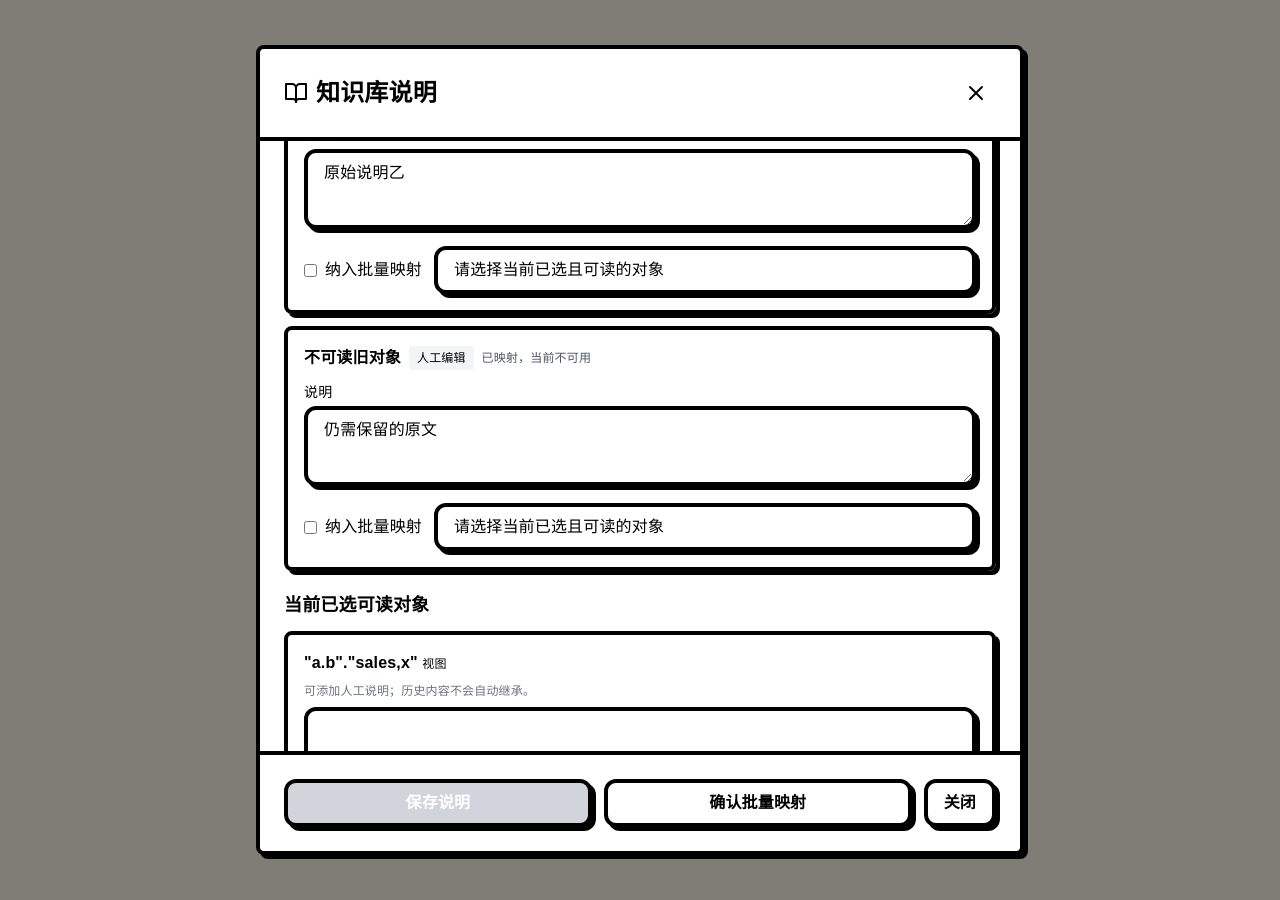
Test: unreadable mapped history can save text by history index without mapping evidence
(page scrolled)
Replace the text in the text box named "历史说明 3" with "仍保留且可编辑" at point(640, 446), box [304,406,976,486]
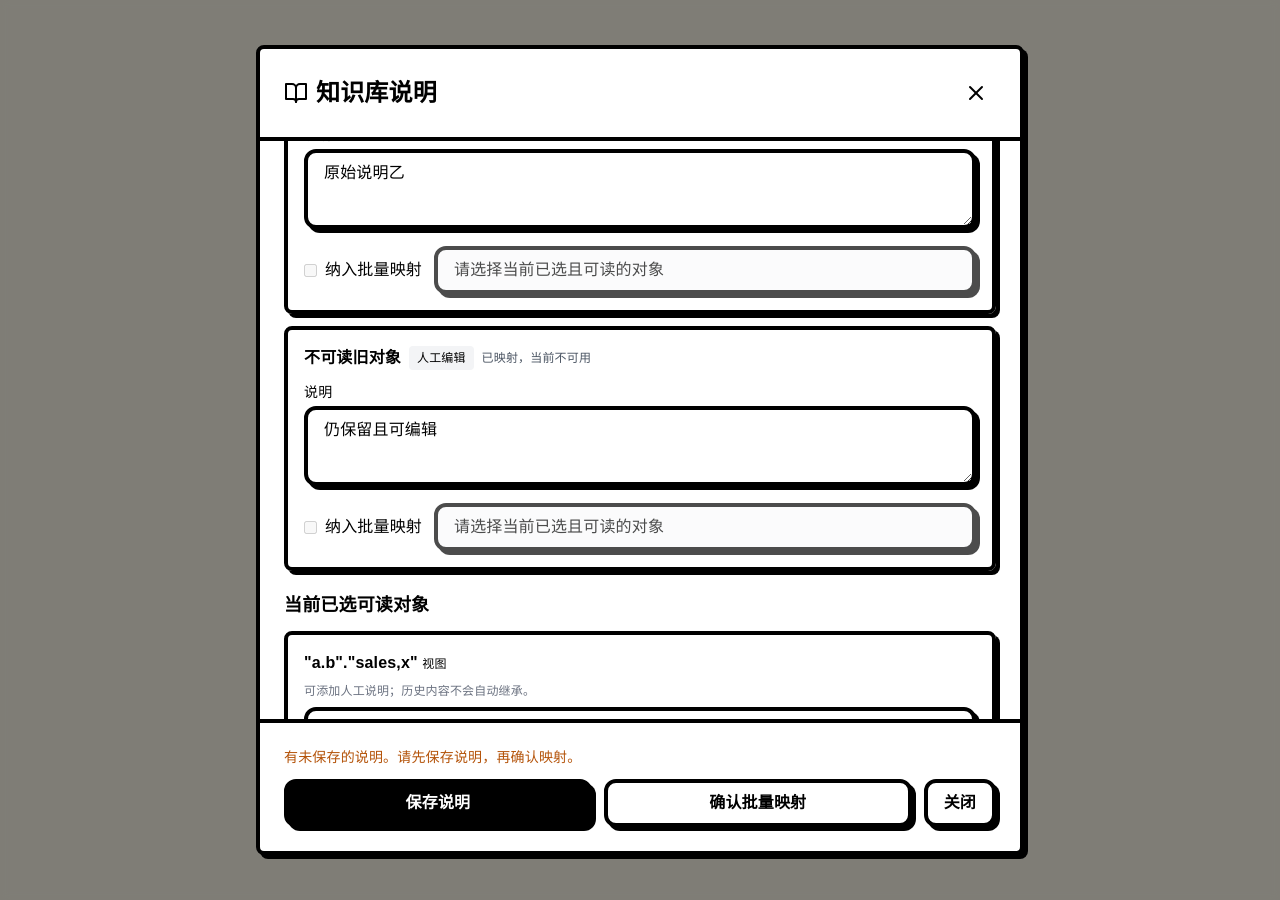
Click the button "保存说明".
click(438, 803)  # box [284,779,592,827]
(page scrolled)
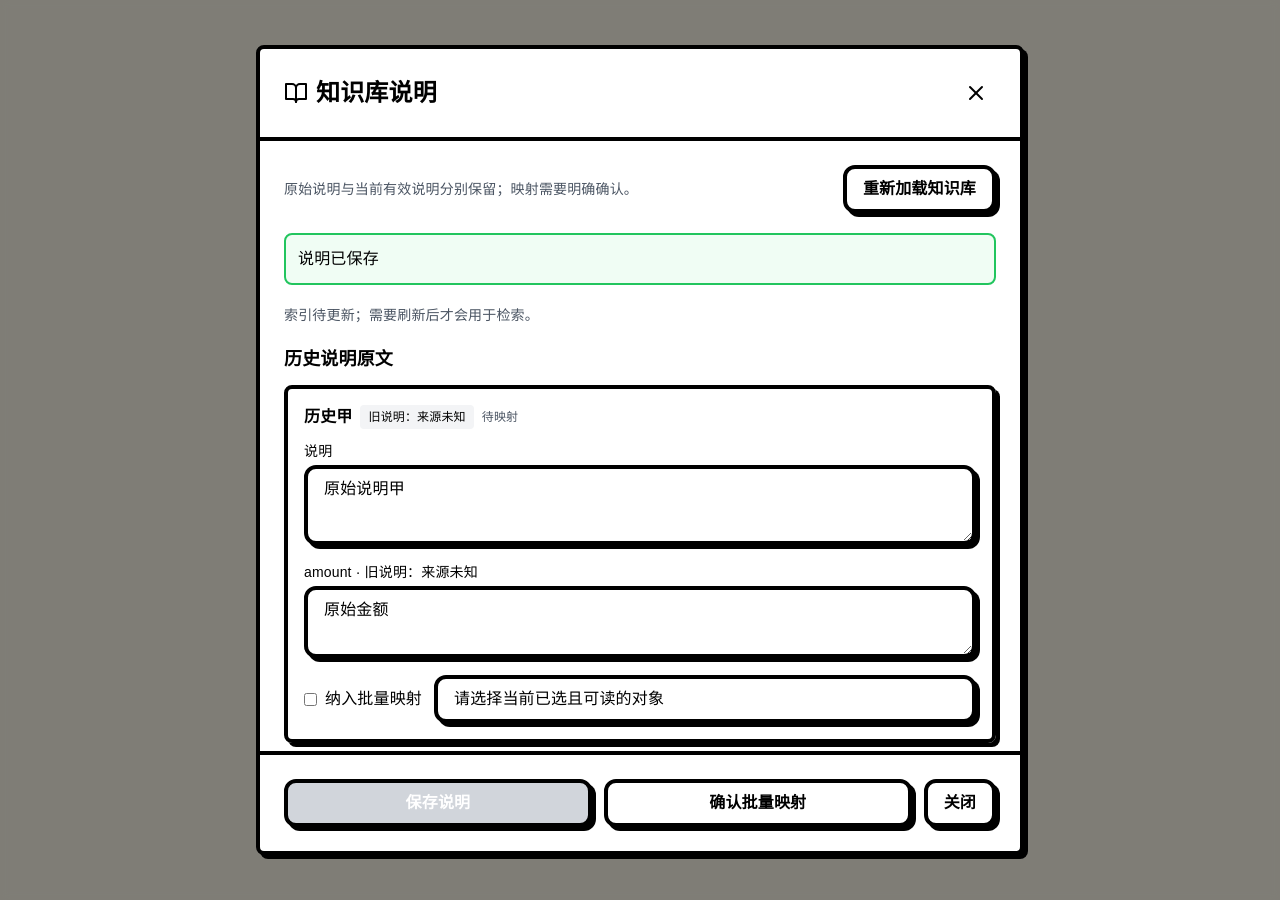
Now the text "说明已保存" is shown, box [284,233,996,285]
